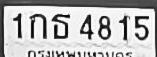1: (118, 14, 128, 40), (12, 12, 21, 38)
4: (79, 13, 92, 39)
5: (134, 14, 148, 39)
8: (97, 14, 110, 39)
A01: (28, 12, 46, 38)
A24: (51, 12, 70, 38)
